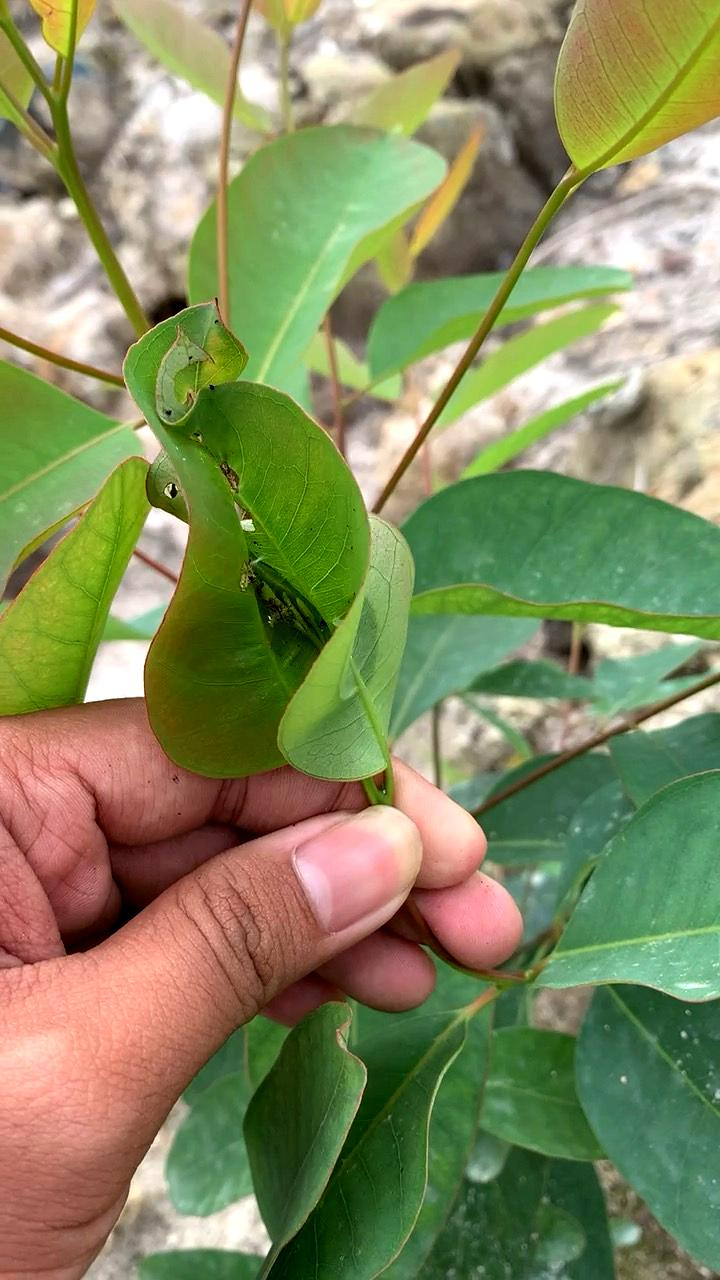Leaf Roller - Leaf: (117, 283, 468, 822)
